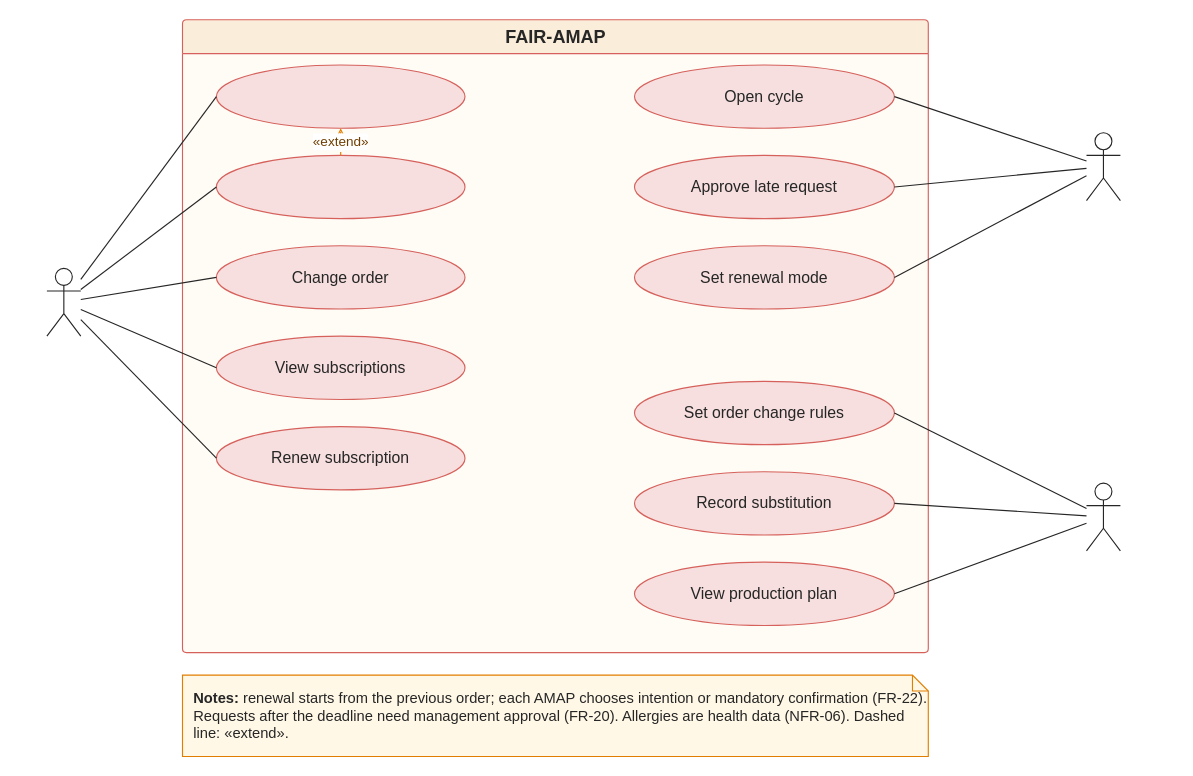
Image size: 1193x776. Some labels were removed from this diagram. Each missing label, with the centre of its shape:
"AMAP management" goes at point 1102,166.
"Co-producer" goes at point 63,301.
"Producer" goes at point 1102,516.
"Record exclusions" goes at point 340,186.
"Subscribe to a cycle" goes at point 340,96.
